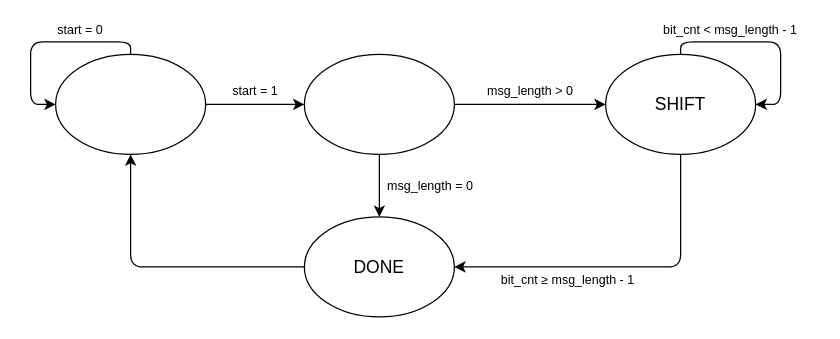
The diagram is 840 pixels wide and 339 high, and some of its shapes have lost their labels. Each missing label, with the box of its shape:
CLEAR: (303, 53, 454, 154)
IDLE: (54, 53, 206, 154)
